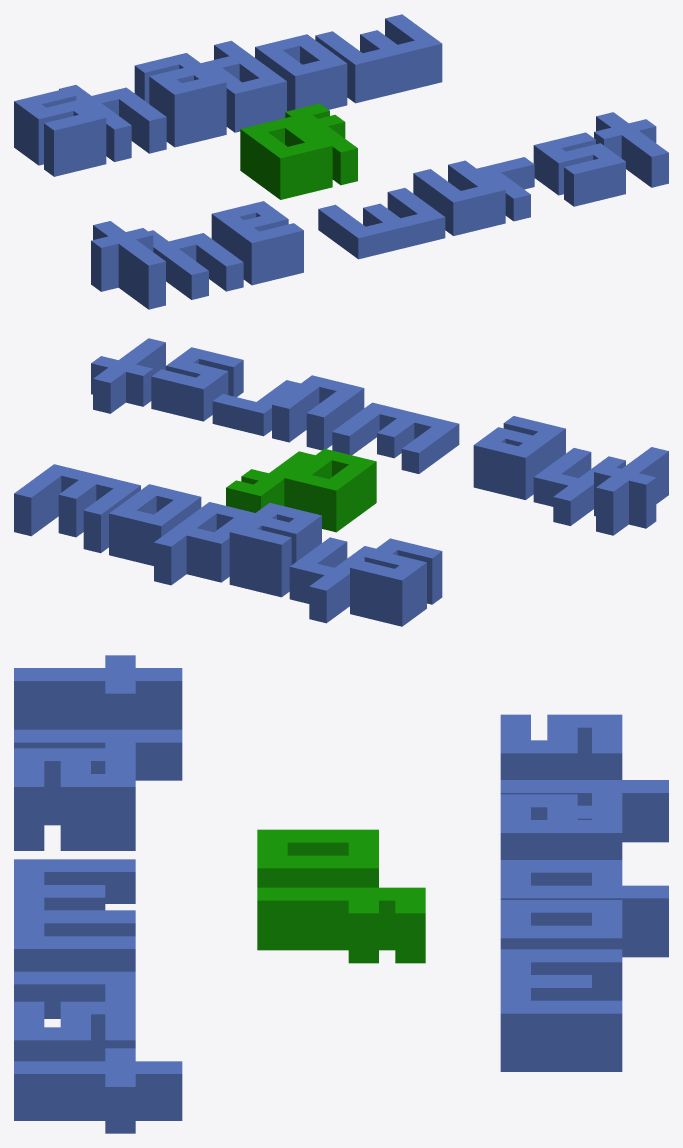
Rendered from sotw.obj.
The picture shows the model from 3 angles, top to bottom: view 1: azimuth 30°, elevation 25°; view 2: azimuth 150°, elevation 25°; view 3: azimuth 270°, elevation 25°; orthographic projection. The views are drawn at different scales.
Parts seen in each view (by area): view 1: Curve_Mesh; view 2: Curve_Mesh; view 3: Curve_Mesh.
Boxes of the visible parts, x1=… form: Curve_Mesh: x1=14, y1=14, x2=668, y2=309; Curve_Mesh: x1=14, y1=338, x2=668, y2=626; Curve_Mesh: x1=14, y1=655, x2=668, y2=1133.
Size of the model in its own units: 5.32 by 0.4819 by 3.59.
